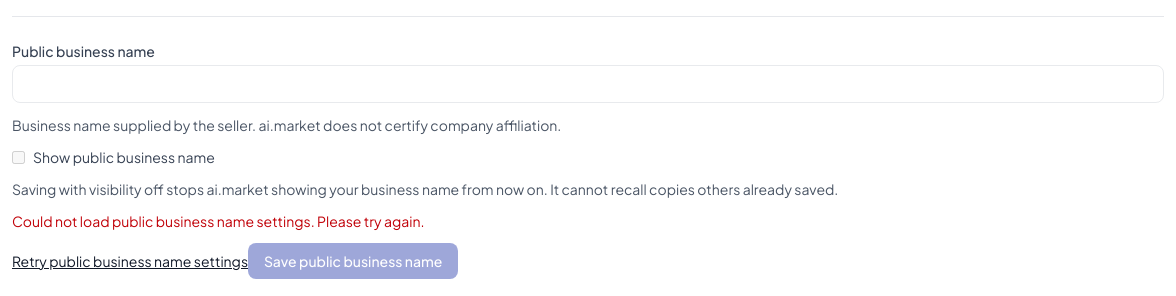
it: public business name settings › allows a retry after load failure and never overwrites an unread profile
Expected: the message "Could not load public business name settings. Please try again." is shown, [12,212,424,230]
Expected: the switch is disabled, [12,150,25,164]
Click the button "Retry public business name settings".
click(130, 261)  # box [12,251,248,271]
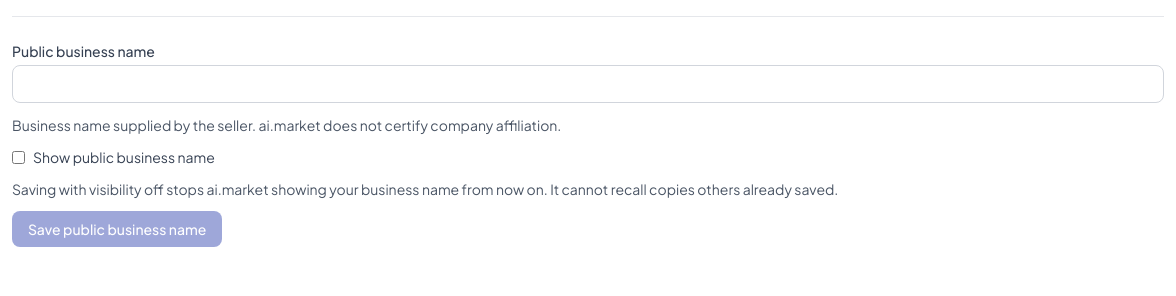
Result: the switch is enabled at [12,150,25,164]
